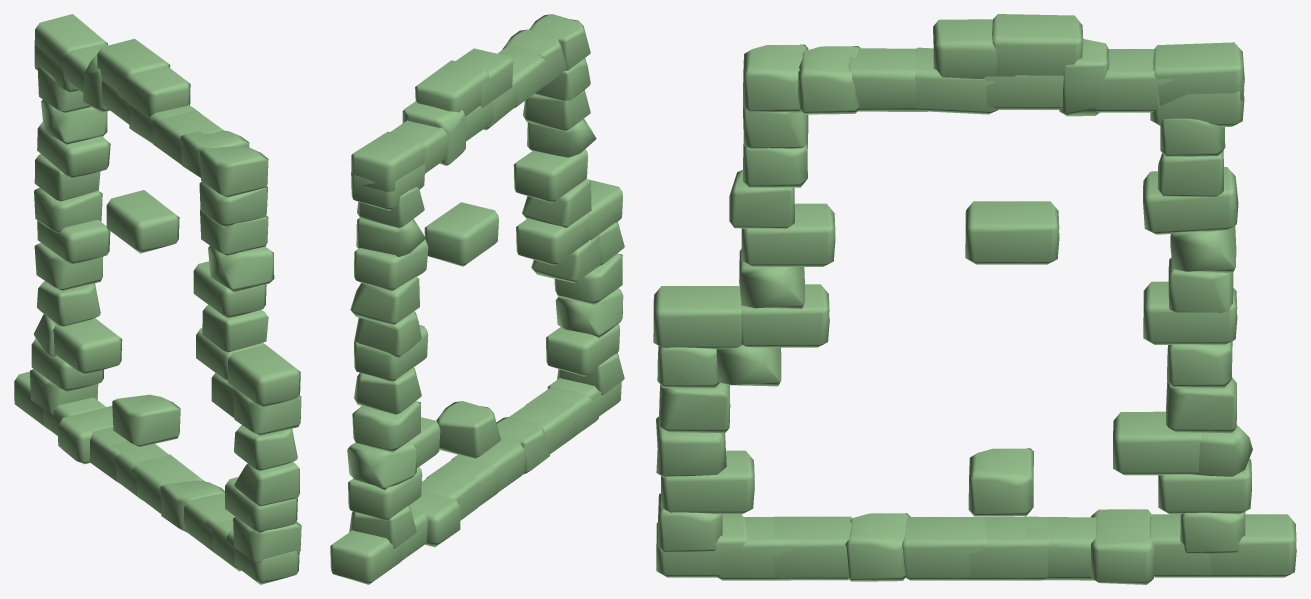
Rendered from Wall_Break_02_Lod0.fbx.
3 renders of one model, left to right at view 1: azimuth 30°, elevation 25°; view 2: azimuth 150°, elevation 25°; view 3: azimuth 270°, elevation 25°, orthographic. The views are drawn at different scales.
Visible parts, largest first — view 1: Wall_Break_02_Lod0; view 2: Wall_Break_02_Lod0; view 3: Wall_Break_02_Lod0.
Part boxes in pixels (x1,y1,x2,y2): Wall_Break_02_Lod0: (14, 14, 301, 584); Wall_Break_02_Lod0: (330, 14, 624, 584); Wall_Break_02_Lod0: (653, 14, 1296, 584).
Bounding box in the file's own units: 52.29 × 335 × 358.
